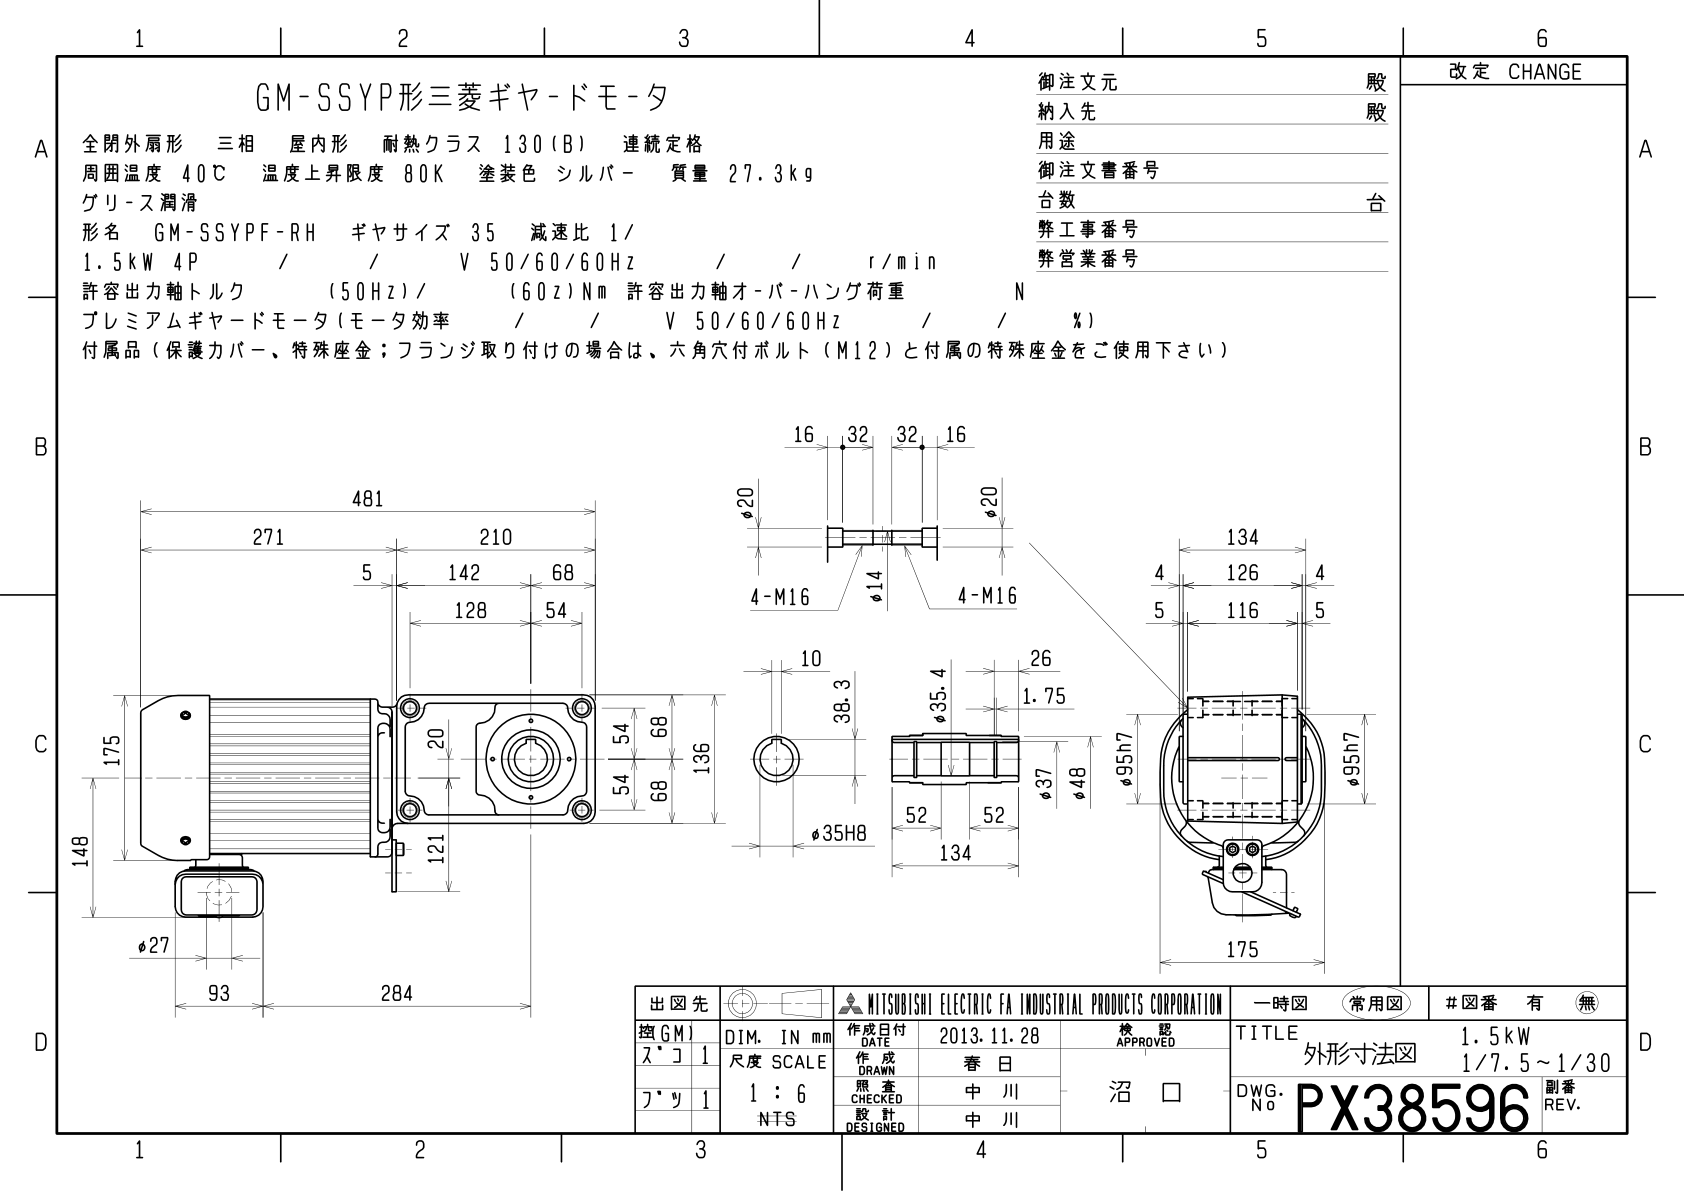GM_SSYP_屋内_三相: (67, 406, 1392, 983)
